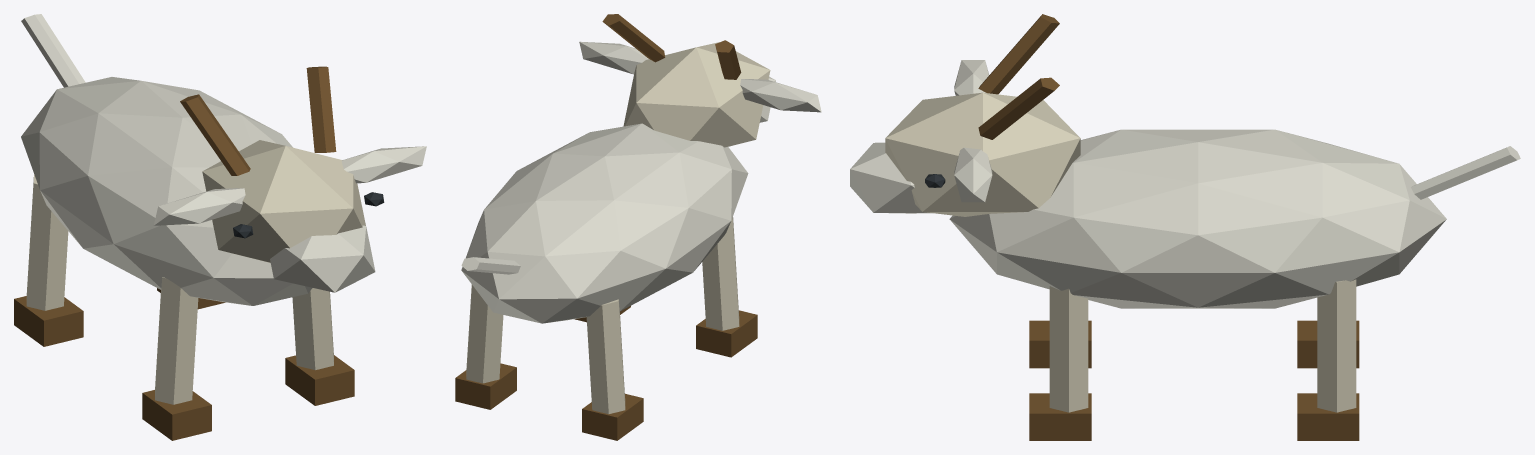
The model's file is goat.glb.
The picture shows the model from 3 angles, left to right: view 1: azimuth 30°, elevation 25°; view 2: azimuth 150°, elevation 25°; view 3: azimuth 270°, elevation 25°; orthographic projection. The views are drawn at different scales.
Parts seen in each view (by area): view 1: GoatBody, GoatLeg_Front_L, GoatLeg_Rear_L, GoatLeg_Front_R; view 2: GoatBody, GoatLeg_Rear_L, GoatLeg_Front_L, GoatLeg_Rear_R; view 3: GoatBody, GoatLeg_Rear_R, GoatLeg_Front_R, GoatLeg_Front_L, GoatLeg_Rear_L.
Part boxes in pixels (x1,y1,x2,y2): GoatBody: (21,14,426,305); GoatLeg_Front_L: (142,277,211,440); GoatLeg_Rear_L: (14,174,83,346); GoatLeg_Front_R: (285,288,354,405); GoatBody: (461,14,821,323); GoatLeg_Rear_L: (582,299,643,440); GoatLeg_Front_L: (696,217,757,357); GoatLeg_Rear_R: (455,284,516,409); GoatBody: (850,14,1520,308); GoatLeg_Rear_R: (1297,279,1359,440); GoatLeg_Front_R: (1029,286,1091,440); GoatLeg_Front_L: (1029,320,1091,368); GoatLeg_Rear_L: (1297,320,1359,368).
Bounding box in the file's own units: 0.6883 × 0.7998 × 1.4.
